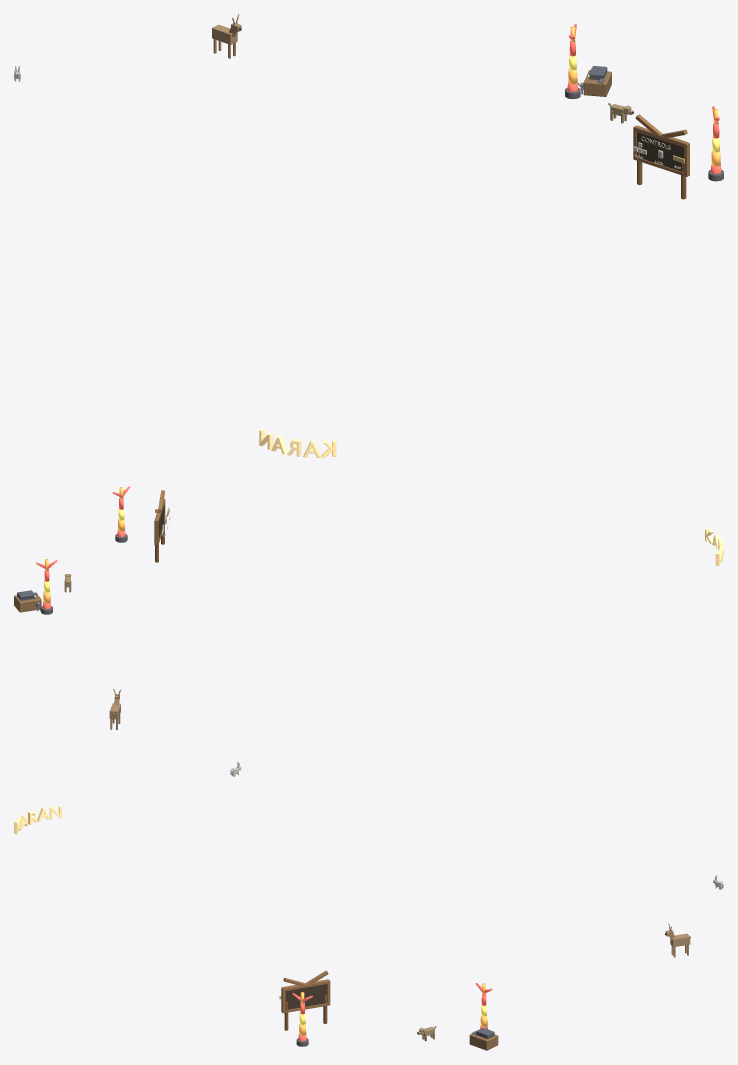
Rendered from miscFx.glb.
The picture shows the model from 3 angles, top to bottom: view 1: azimuth 30°, elevation 25°; view 2: azimuth 150°, elevation 25°; view 3: azimuth 270°, elevation 25°; orthographic projection. The views are drawn at different scales.
Visible parts, largest first — view 1: controlsBoard_panel; view 2: no part large enough to name; view 3: controlsBoard_panel.
Boxes of the visible parts, x1,y1,x2,y2 form: controlsBoard_panel: (637, 132, 683, 171); controlsBoard_panel: (285, 984, 327, 1009).
Bounding box in the file's own units: 31.07 × 3.29 × 39.82.
